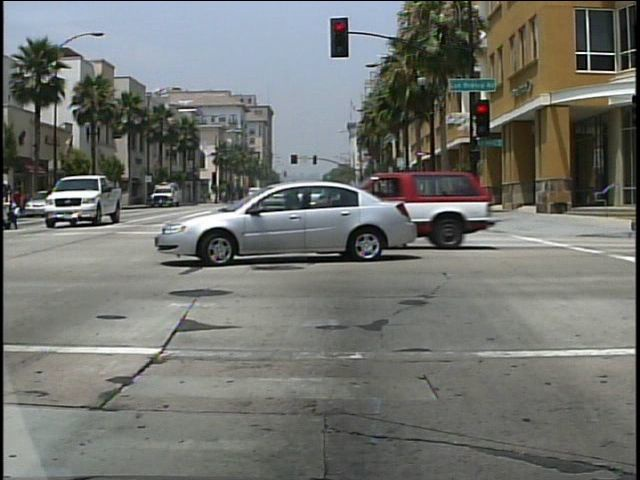person: (1, 178, 26, 232)
